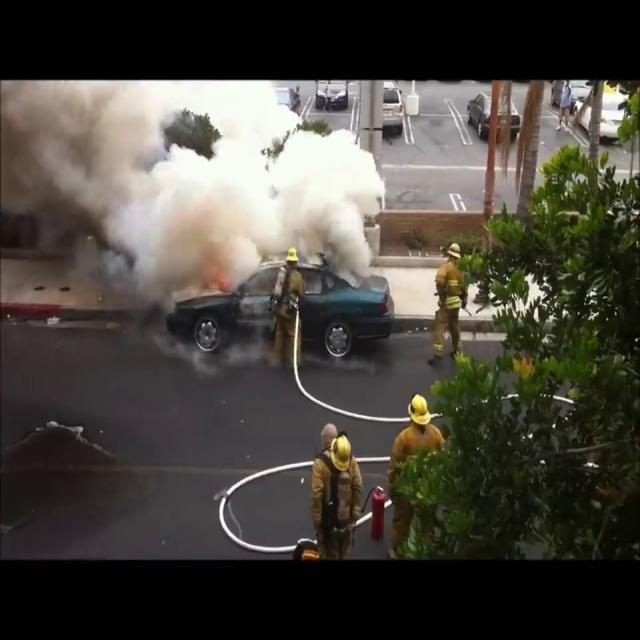Smoke: (1, 83, 390, 297)
